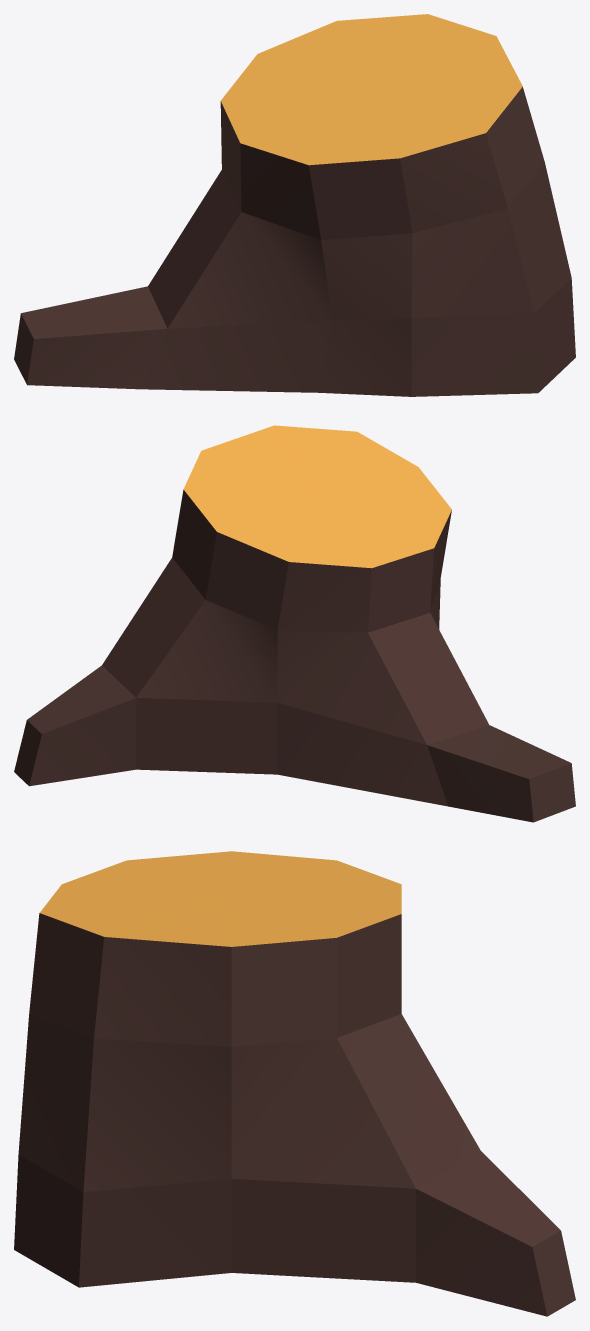
Rendered from trunk2-flat.glb.
3 views of the same model, one above another, from view 1: azimuth 30°, elevation 25°; view 2: azimuth 150°, elevation 25°; view 3: azimuth 270°, elevation 25° (orthographic). The views are drawn at different scales.
Parts seen in each view (by area): view 1: trunk_2; view 2: trunk_2; view 3: trunk_2.
Part boxes in pixels (x1,y1,x2,y2): trunk_2: (14, 14, 575, 396); trunk_2: (14, 425, 575, 822); trunk_2: (14, 851, 575, 1316).
Size of what is drawn, in the model's own units: 6.14 by 3.17 by 4.87.
Materials: 1 (1 with a texture image).
